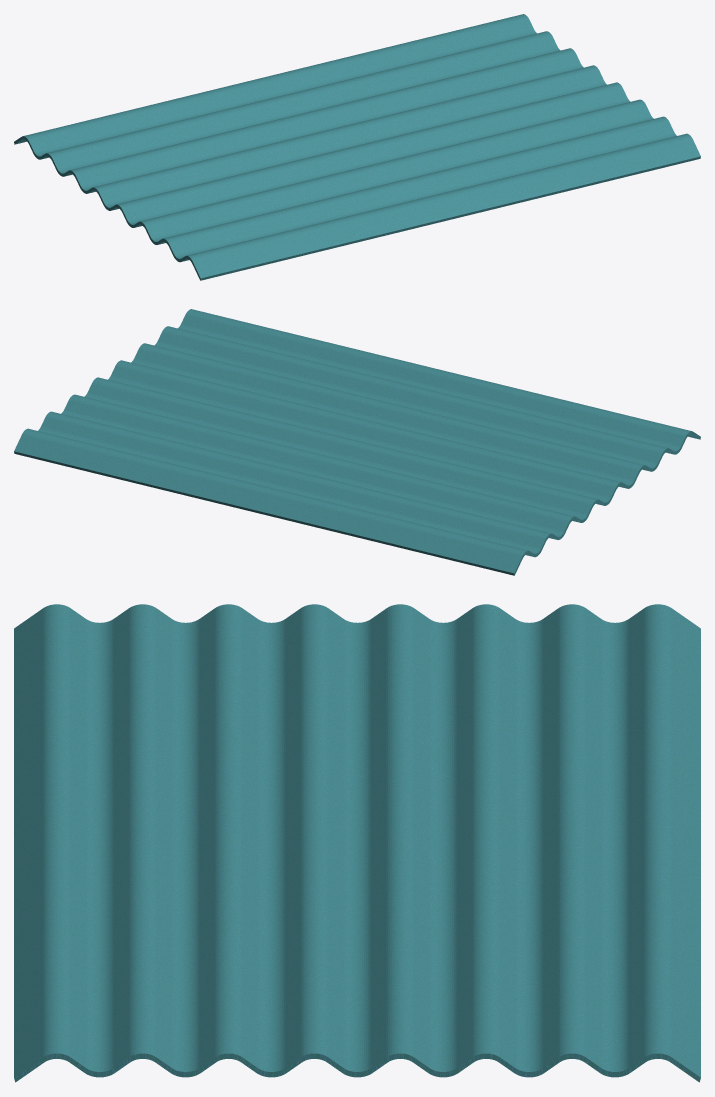
Rendered from Project Name.gltf.
The picture shows the model from 3 angles, top to bottom: view 1: azimuth 30°, elevation 25°; view 2: azimuth 150°, elevation 25°; view 3: azimuth 270°, elevation 25°; orthographic projection. The views are drawn at different scales.
Parts seen in each view (by area): view 1: Plane_Plane.004; view 2: Plane_Plane.004; view 3: Plane_Plane.004.
Part boxes in pixels (box(x1,y1,x2,y2)): Plane_Plane.004: box(14, 14, 700, 280); Plane_Plane.004: box(14, 309, 700, 575); Plane_Plane.004: box(14, 604, 700, 1082).
Size of what is drawn, in the model's own units: 0.0331 by 0.001 by 0.0214.
Materials: 1 (1 with a texture image).
